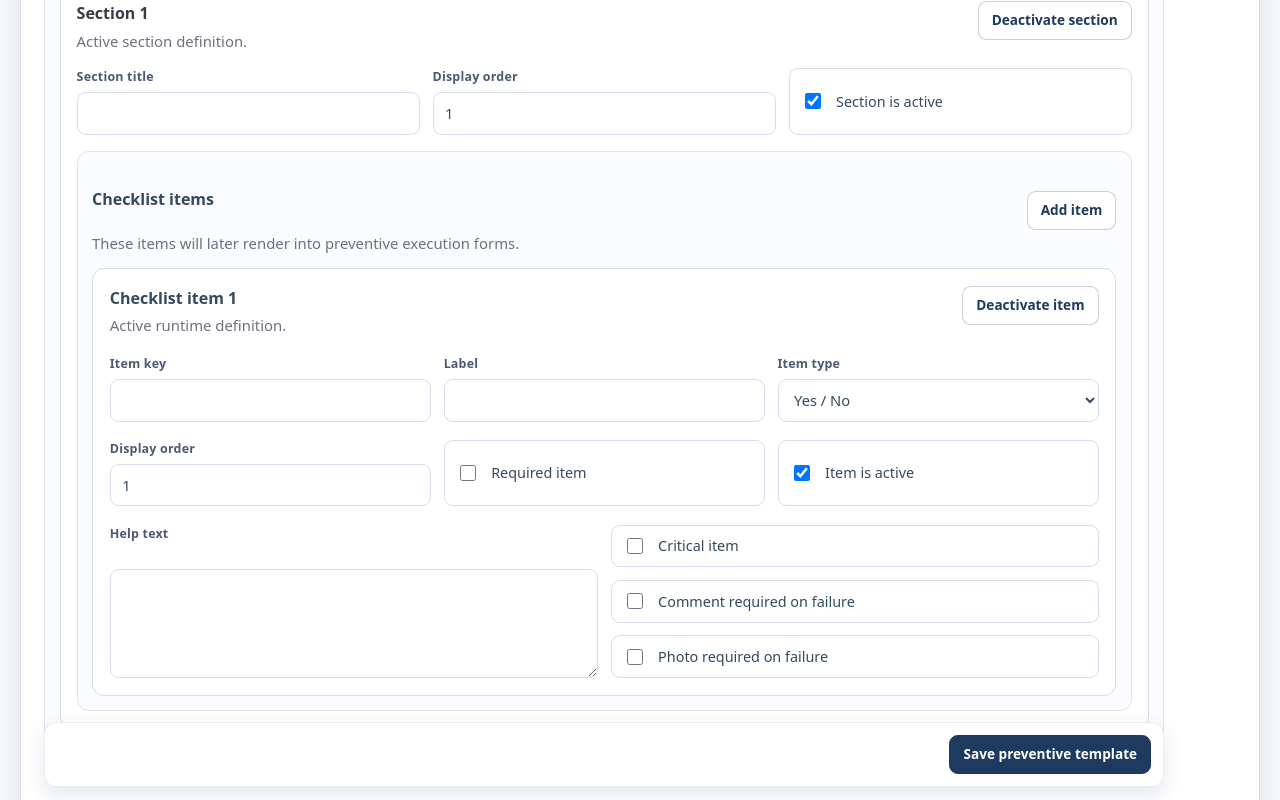
Test: PreventiveTemplateForm › should show numeric bounds when the item type is numeric
(page scrolled)
Select "Numeric" in the dropdown labelled "Item type": (938, 400) [778, 379, 1099, 422]
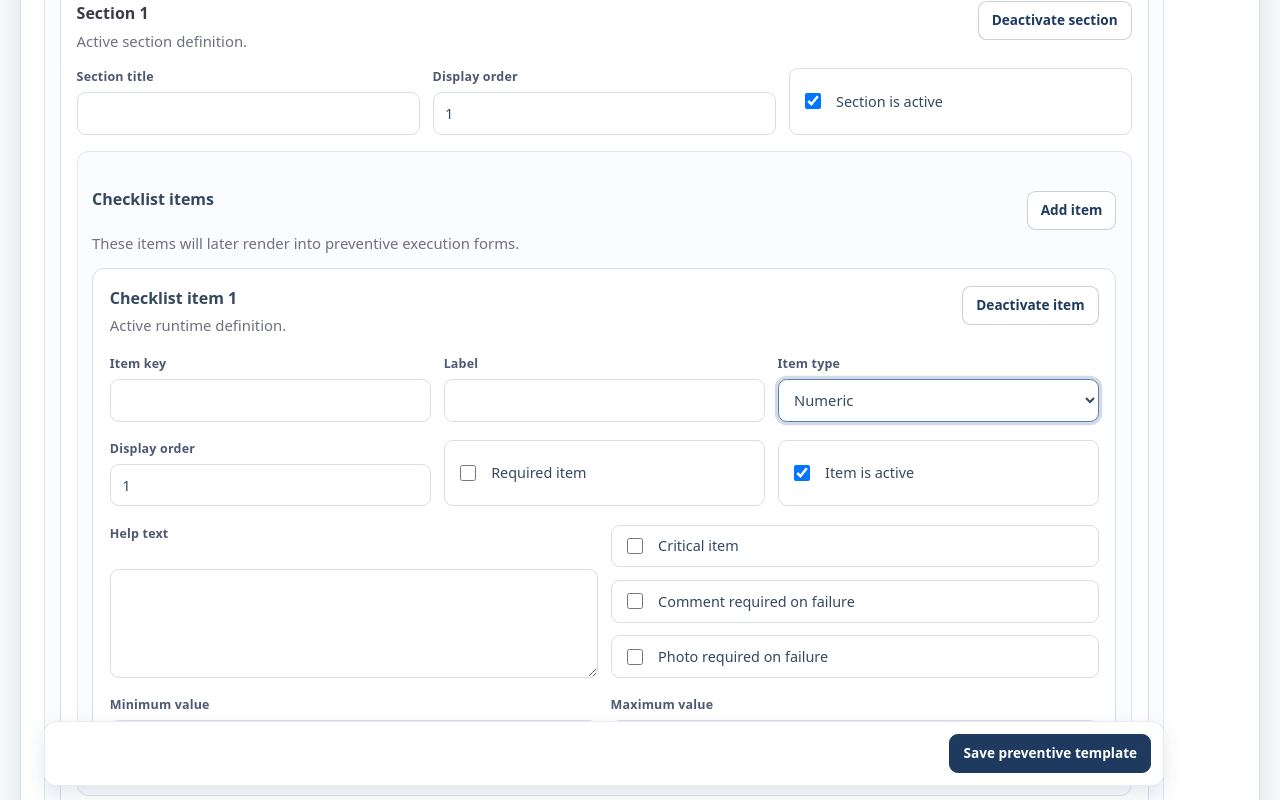
Expected: the number field labelled "Minimum value" is shown, [110, 720, 598, 763]
Expected: the number field labelled "Maximum value" is shown, [611, 720, 1099, 763]
